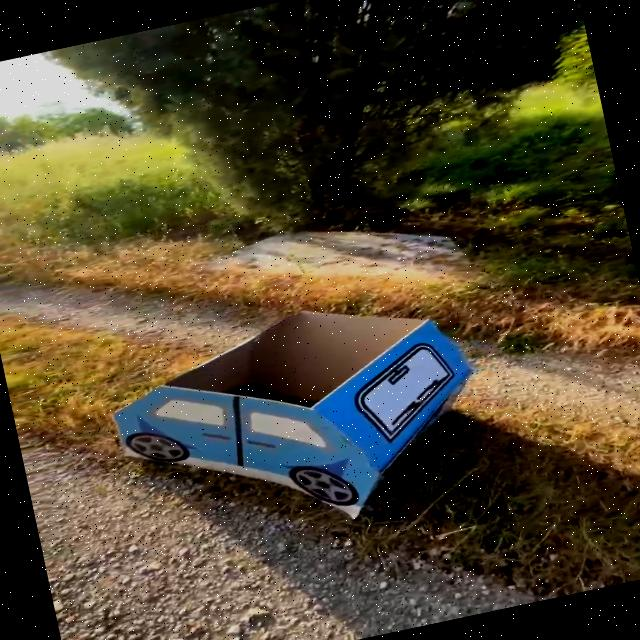blue_car: (73, 245, 576, 591)
